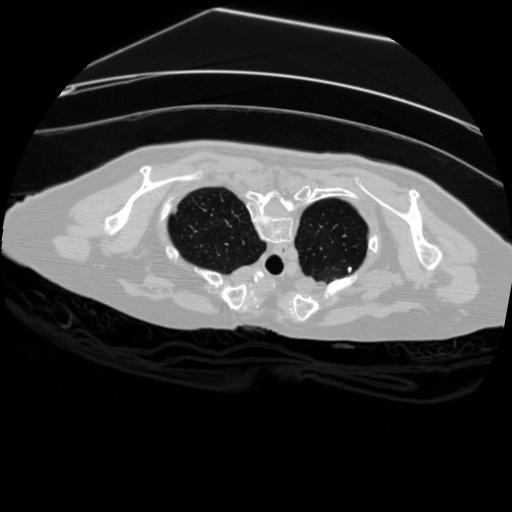nodule: (342, 264, 354, 276)
